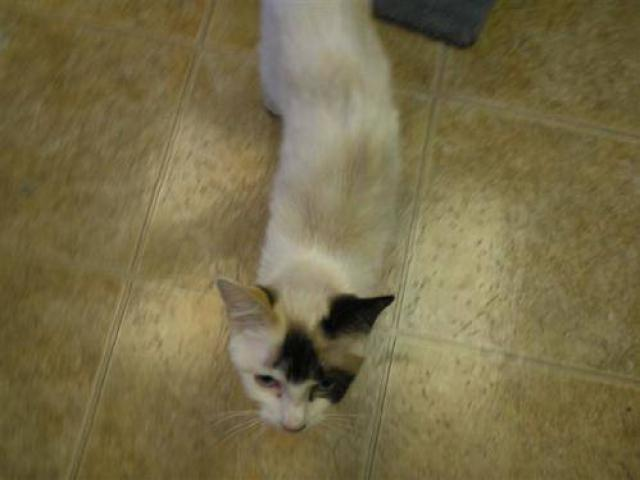cat: (214, 3, 428, 442)
